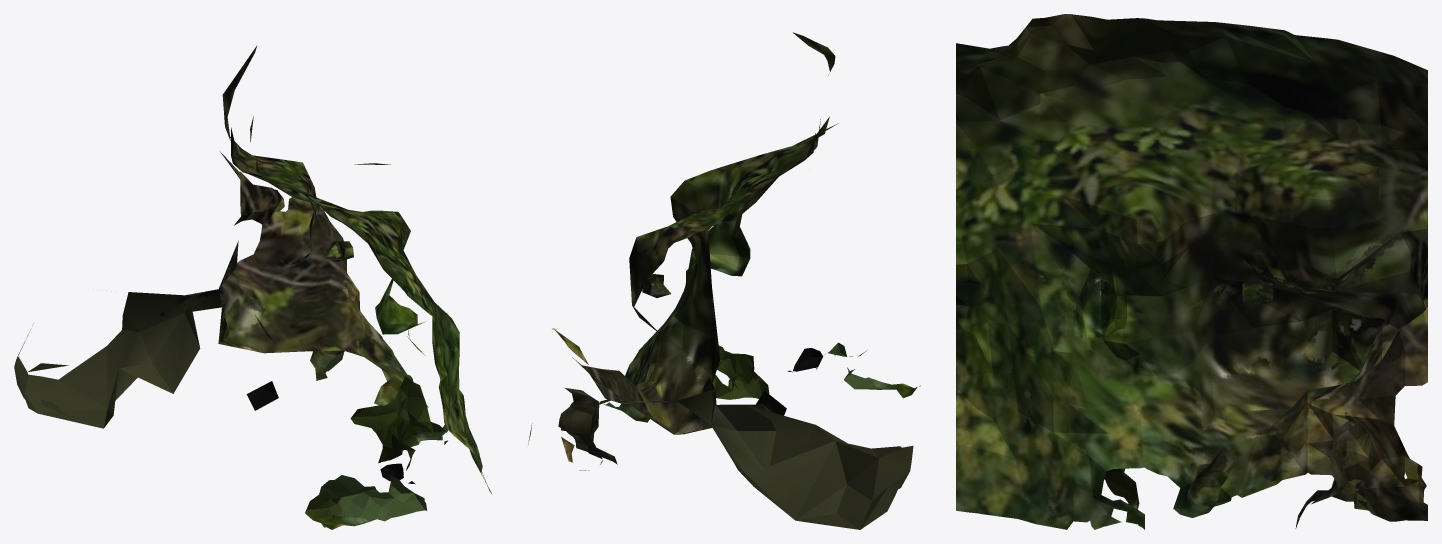
The picture shows the model from 3 angles, left to right: view 1: azimuth 30°, elevation 25°; view 2: azimuth 150°, elevation 25°; view 3: azimuth 270°, elevation 25°; orthographic projection. The views are drawn at different scales.
Bounding box in the file's own units: 0.8374 × 0.8373 × 0.8373.
5 materials, 5 textured.
